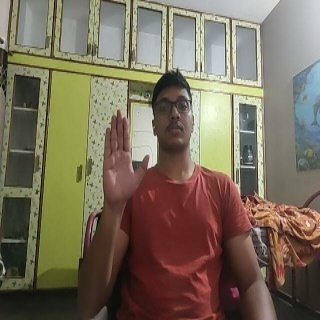Face: (150, 69, 197, 153)
Hello: (102, 107, 151, 207)
